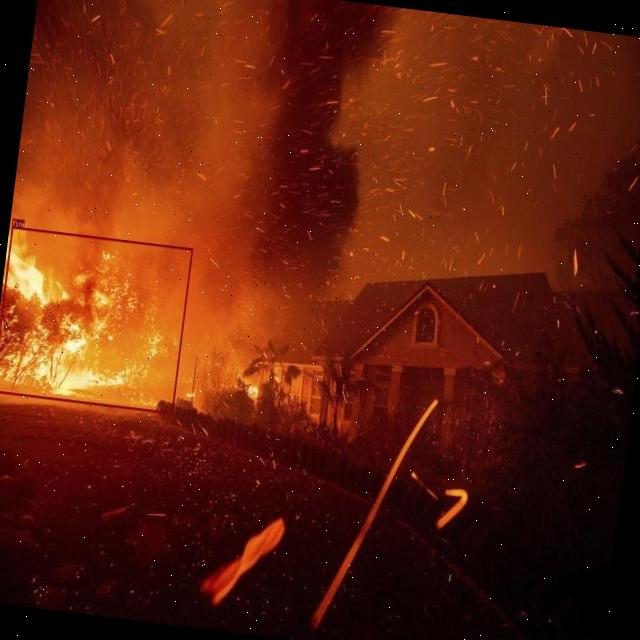fire: (0, 225, 192, 413)
